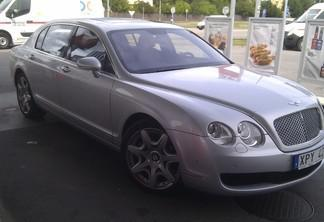Car: (11, 13, 324, 222)
